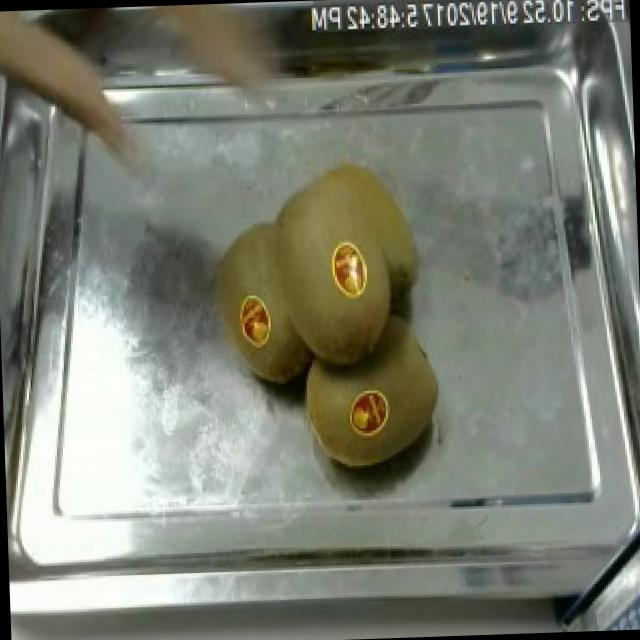Fruit: (195, 158, 428, 384), (290, 316, 447, 475)
